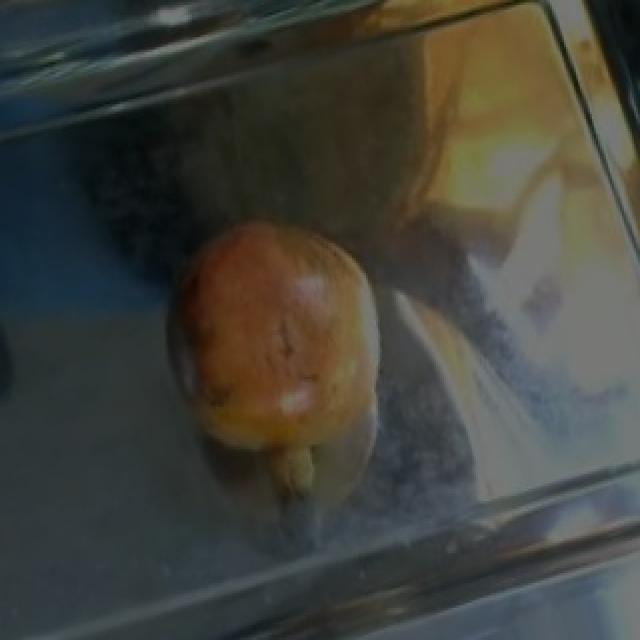fruit: (146, 193, 410, 449)
